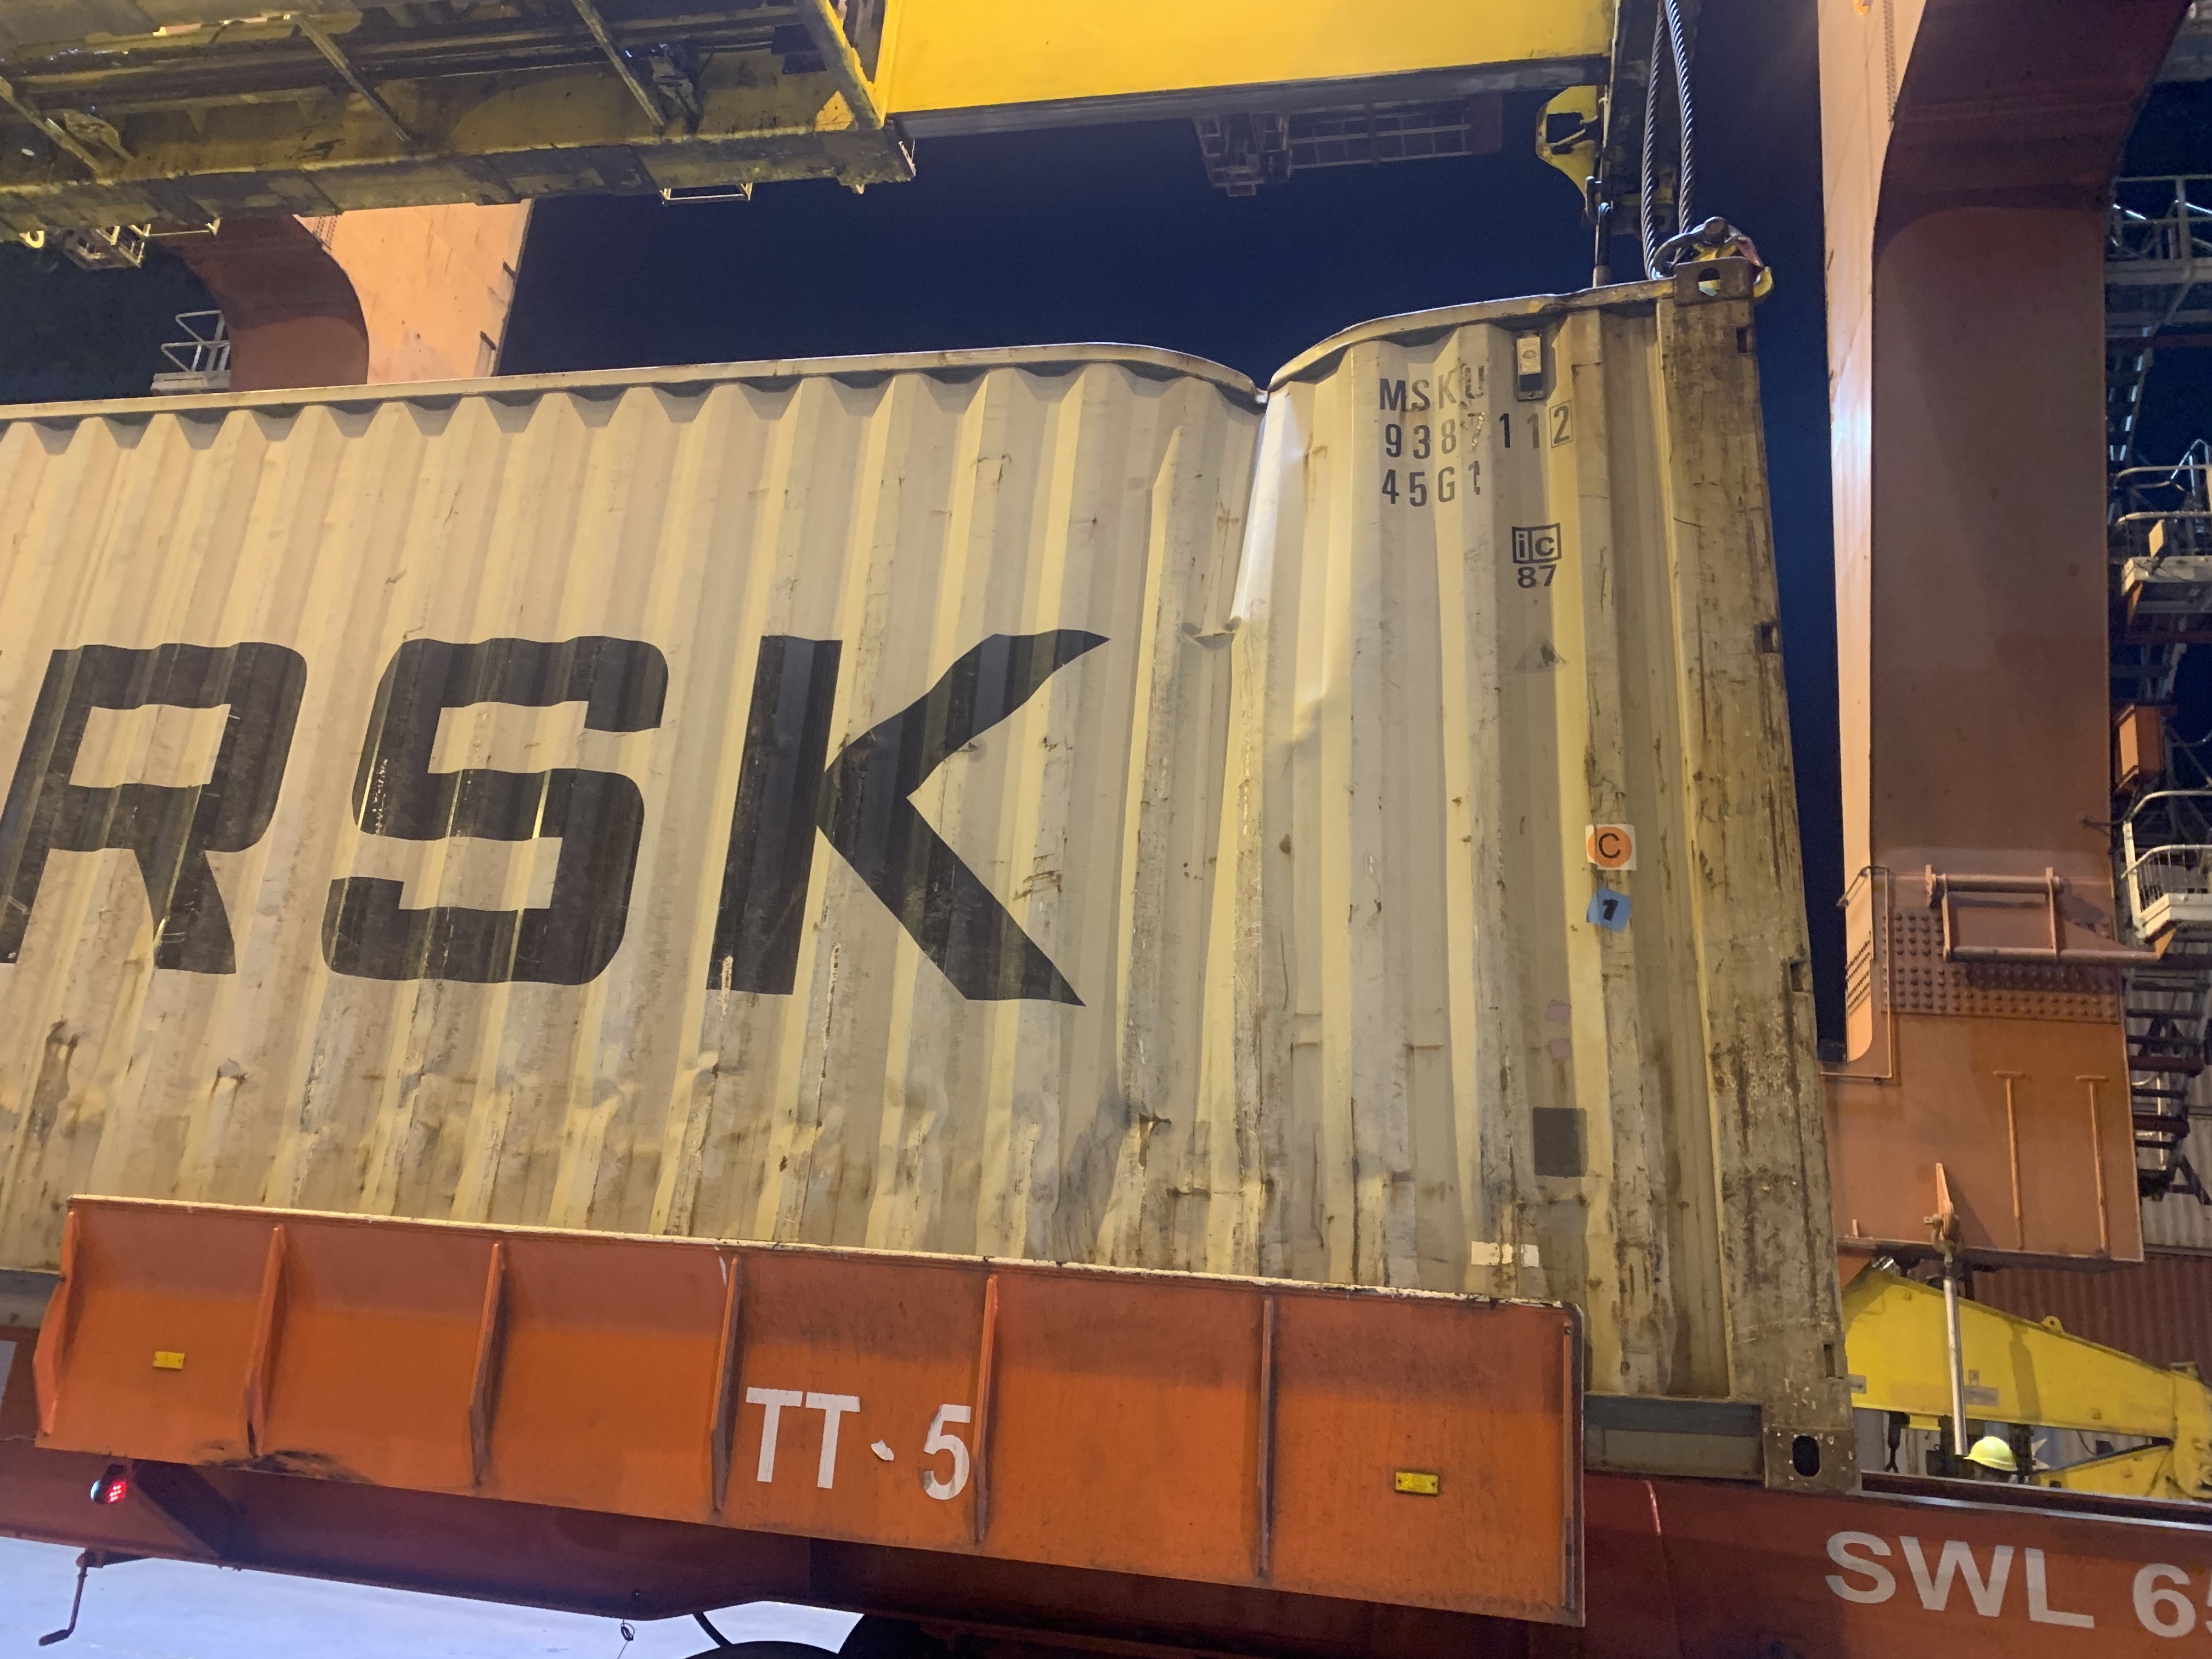dented: (1111, 336, 1421, 709), (108, 1011, 685, 1206), (873, 1061, 1425, 1255)
